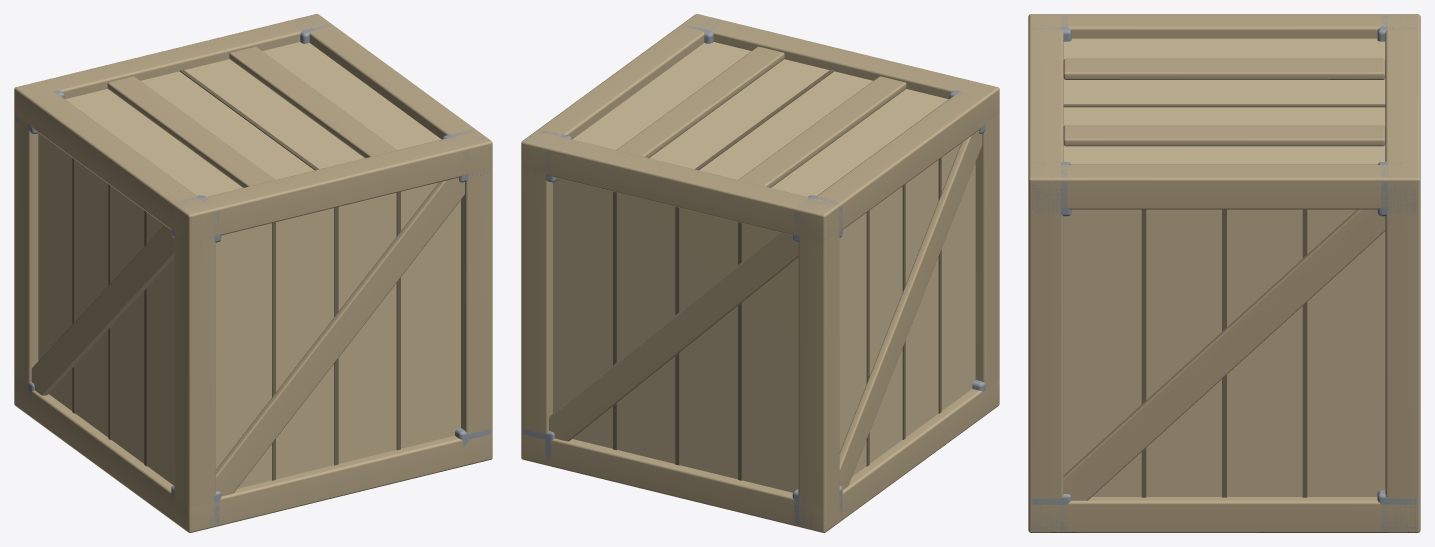
Rendered from crate.glb.
3 views of the same model, side by side, from view 1: azimuth 30°, elevation 25°; view 2: azimuth 150°, elevation 25°; view 3: azimuth 270°, elevation 25° (orthographic). The views are drawn at different scales.
Visible parts, largest first — view 1: crate; view 2: crate; view 3: crate.
Part boxes in pixels (<box>): crate: <box>14,14,492,532</box>; crate: <box>521,14,999,532</box>; crate: <box>1028,14,1420,532</box>.
Bounding box in the file's own units: 1 × 1 × 1.
